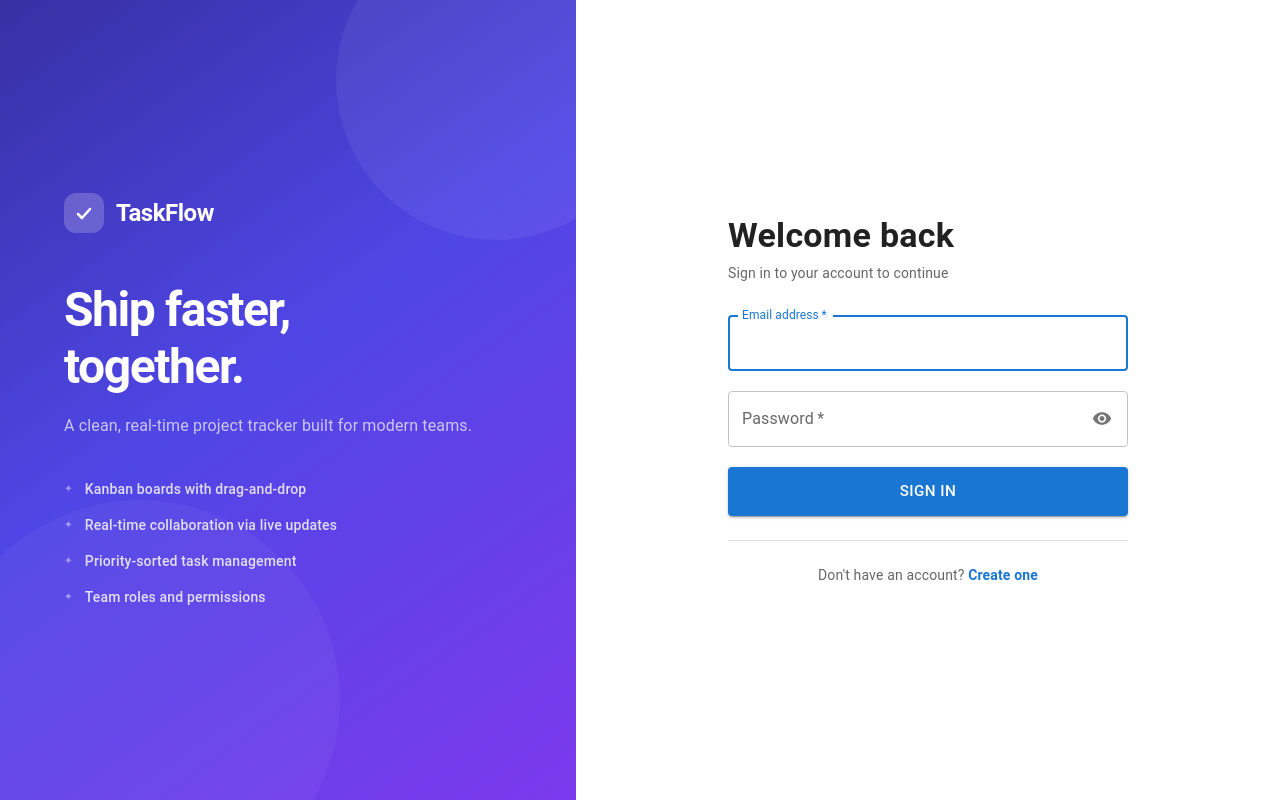
Test: LoginPage › shows validation error for invalid email format
Type "not-an-email" into the field labelled "Email address *" at (928, 343), box x1=728 y1=315 x2=1128 y2=371
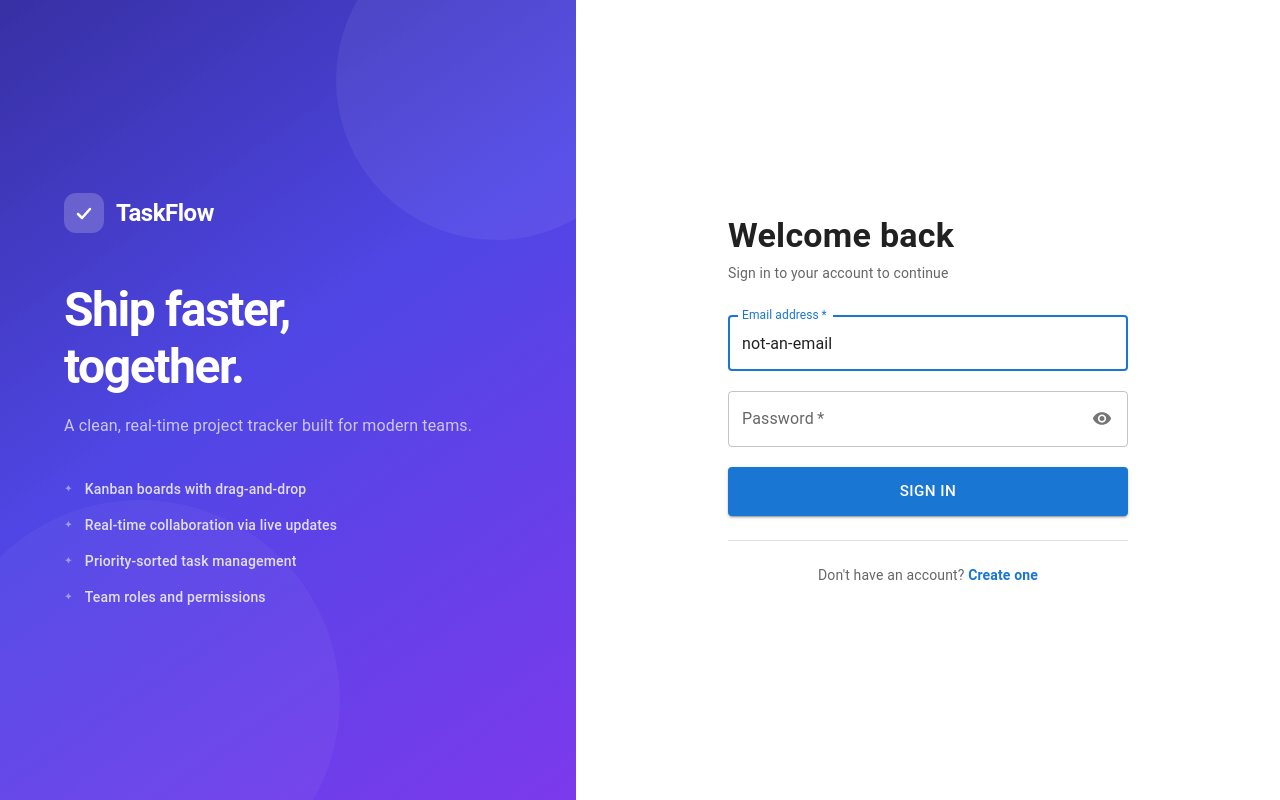
Type "pass1234" into the password field labelled "Password *" at (904, 419), box x1=728 y1=391 x2=1079 y2=447
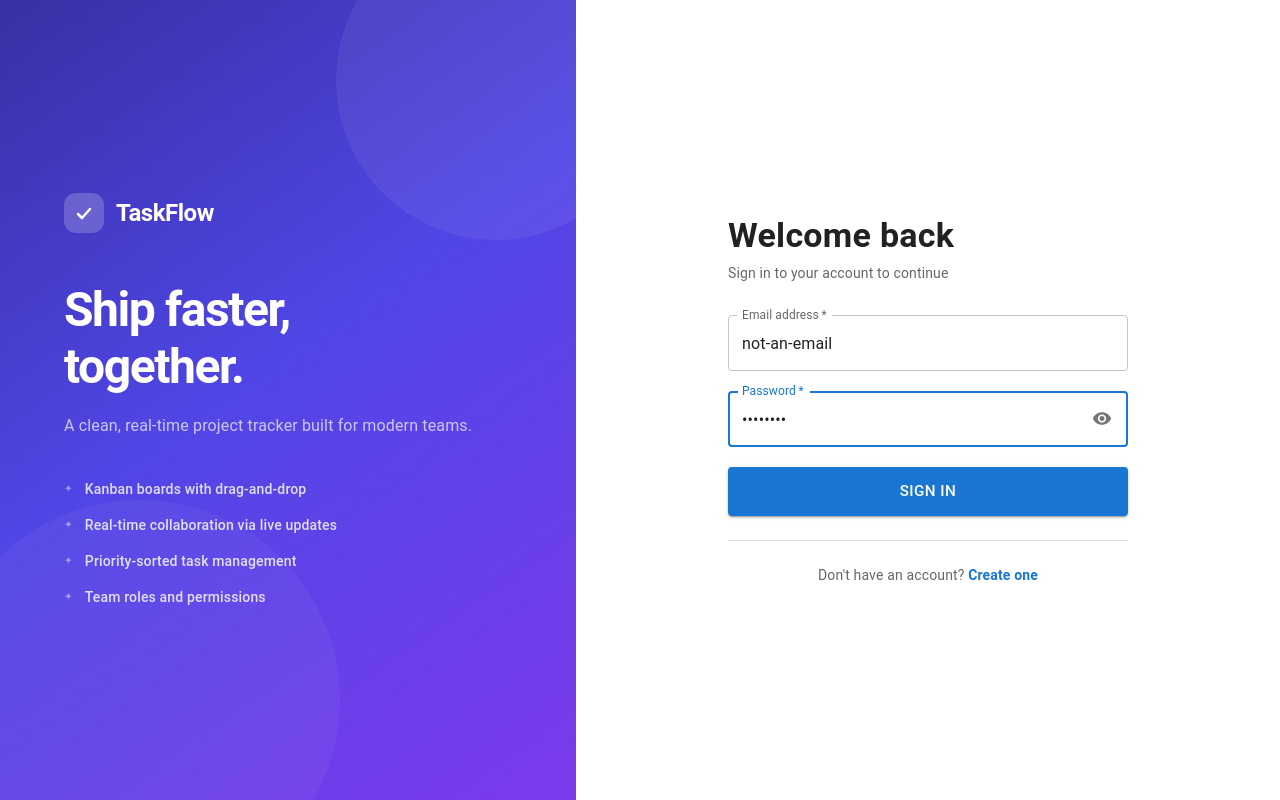
Click the button "Sign in" at (928, 492), box x1=728 y1=467 x2=1128 y2=516
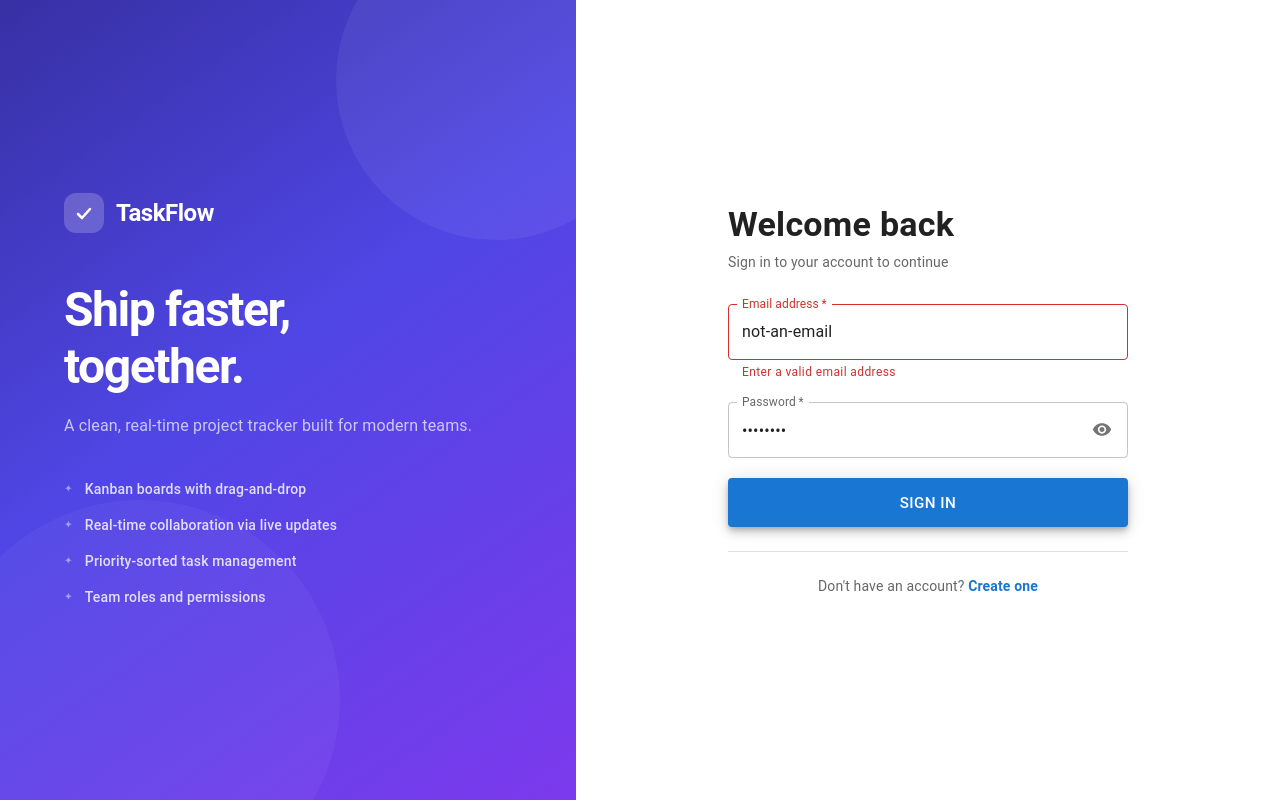
Check: the text "Enter a valid email address" is shown, box x1=742 y1=364 x2=896 y2=378
